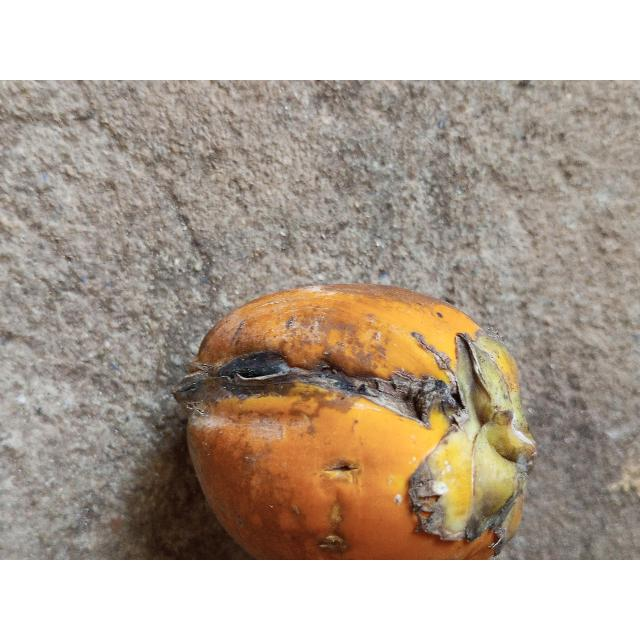damaged: (169, 284, 537, 560)
